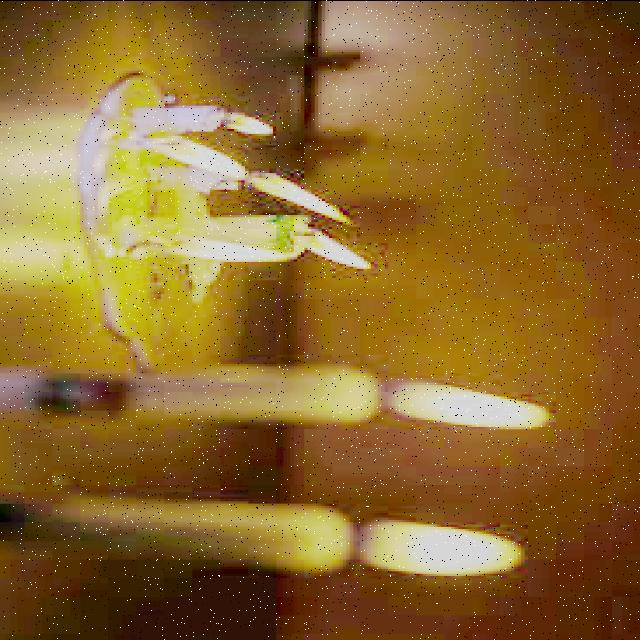api: (375, 364, 557, 448), (358, 513, 530, 578), (243, 162, 362, 227), (155, 127, 246, 183), (305, 220, 382, 278), (225, 87, 281, 143)
